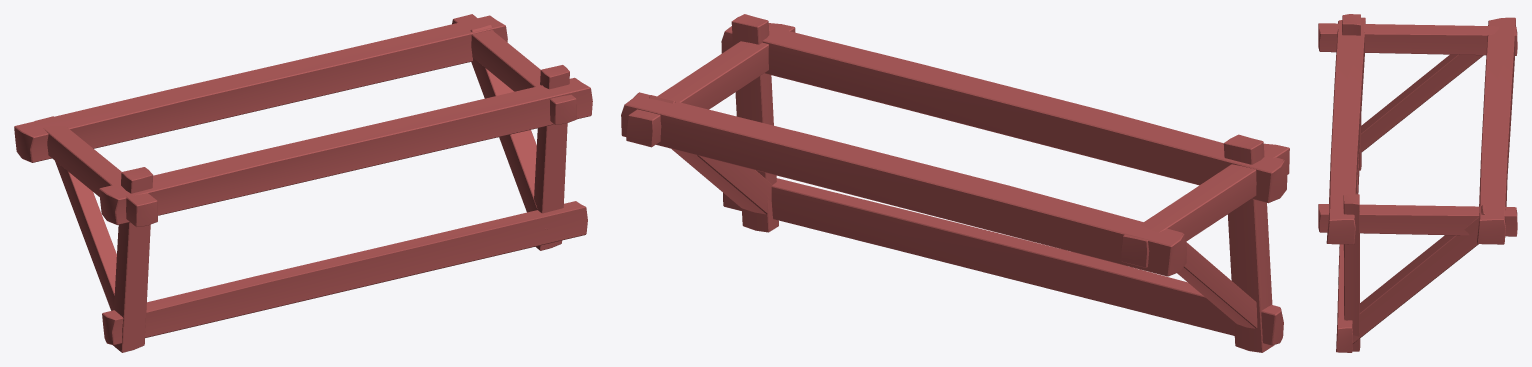
The model's file is Beam_Structure_11B_Lod0.fbx.
3 renders of one model, left to right at view 1: azimuth 30°, elevation 25°; view 2: azimuth 150°, elevation 25°; view 3: azimuth 270°, elevation 25°, orthographic. The views are drawn at different scales.
Parts seen in each view (by area): view 1: Beam_Structure_11B_Lod0; view 2: Beam_Structure_11B_Lod0; view 3: Beam_Structure_11B_Lod0.
Part boxes in pixels (x1,y1,x2,y2): Beam_Structure_11B_Lod0: [14, 14, 592, 352]; Beam_Structure_11B_Lod0: [621, 14, 1289, 352]; Beam_Structure_11B_Lod0: [1318, 14, 1517, 352].
Bounding box in the file's own units: 320 × 112 × 132.
